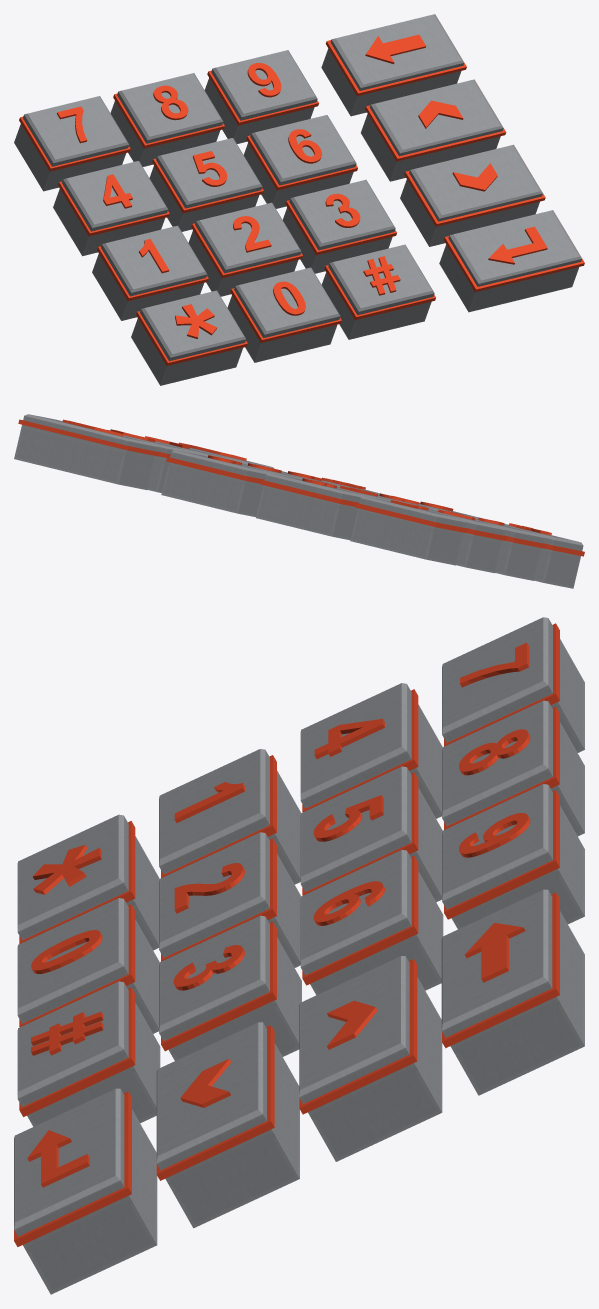
File: ATM_keys.fbx
3 views of the same model, one above another, from view 1: azimuth 30°, elevation 25°; view 2: azimuth 150°, elevation 25°; view 3: azimuth 270°, elevation 25° (orthographic). The views are drawn at different scales.
Parts seen in each view (by area): view 1: atm_keypad_frame, atm_keypad_key2, atm_keypad_key2.002, atm_keypad_key2.001, atm_keypad_key2.003, atm_keypad_key1.004, atm_keypad_key1.005, atm_keypad_key1.012, atm_keypad_key1.002, atm_keypad_key1.001, atm_keypad_key1.003, atm_keypad_key1.008 (+5 smaller); view 2: atm_keypad_key2.001, atm_keypad_key1.001, atm_keypad_key1.008, atm_keypad_key1.009, atm_keypad_frame, atm_keypad_key1.004, atm_keypad_key1.002, atm_keypad_key1.003, atm_keypad_key2.002, atm_keypad_key2, atm_keypad_key2.003; view 3: atm_keypad_frame, atm_keypad_key2.001, atm_keypad_key2.003, atm_keypad_key2, atm_keypad_key2.002, atm_keypad_key1.012, atm_keypad_key1.010, atm_keypad_key1.011, atm_keypad_key1.009, atm_keypad_key1.002, atm_keypad_key1.004, atm_keypad_key1.001 (+5 smaller).
Part boxes in pixels (x1=…): atm_keypad_frame: x1=19, y1=40, x2=584, y2=365; atm_keypad_key2: x1=439, y1=210, x2=582, y2=312; atm_keypad_key2.002: x1=361, y1=79, x2=503, y2=181; atm_keypad_key2.001: x1=321, y1=14, x2=464, y2=116; atm_keypad_key2.003: x1=400, y1=144, x2=542, y2=246; atm_keypad_key1.004: x1=131, y1=290, x2=246, y2=385; atm_keypad_key1.005: x1=227, y1=267, x2=340, y2=362; atm_keypad_key1.012: x1=321, y1=244, x2=434, y2=339; atm_keypad_key1.002: x1=53, y1=161, x2=168, y2=256; atm_keypad_key1.001: x1=14, y1=96, x2=129, y2=191; atm_keypad_key1.003: x1=92, y1=225, x2=207, y2=320; atm_keypad_key1.008: x1=110, y1=73, x2=223, y2=166; atm_keypad_key2.001: x1=14, y1=414, x2=157, y2=489; atm_keypad_key1.001: x1=350, y1=496, x2=465, y2=565; atm_keypad_key1.008: x1=256, y1=473, x2=369, y2=540; atm_keypad_key1.009: x1=161, y1=450, x2=274, y2=517; atm_keypad_frame: x1=18, y1=419, x2=584, y2=556; atm_keypad_key1.004: x1=504, y1=523, x2=583, y2=588; atm_keypad_key1.002: x1=428, y1=509, x2=505, y2=573; atm_keypad_key1.003: x1=475, y1=517, x2=544, y2=580; atm_keypad_key2.002: x1=110, y1=429, x2=195, y2=492; atm_keypad_key2: x1=178, y1=442, x2=273, y2=468; atm_keypad_key2.003: x1=108, y1=430, x2=234, y2=460; atm_keypad_frame: x1=14, y1=623, x2=559, y2=1246; atm_keypad_key2.001: x1=441, y1=889, x2=584, y2=1095; atm_keypad_key2.003: x1=156, y1=1022, x2=299, y2=1228; atm_keypad_key2: x1=14, y1=1088, x2=157, y2=1294; atm_keypad_key2.002: x1=299, y1=956, x2=442, y2=1161; atm_keypad_key1.012: x1=17, y1=981, x2=160, y2=1126; atm_keypad_key1.010: x1=300, y1=850, x2=443, y2=995; atm_keypad_key1.011: x1=159, y1=915, x2=301, y2=1060; atm_keypad_key1.009: x1=442, y1=784, x2=584, y2=929; atm_keypad_key1.002: x1=300, y1=683, x2=442, y2=818; atm_keypad_key1.004: x1=17, y1=814, x2=159, y2=950; atm_keypad_key1.001: x1=442, y1=617, x2=584, y2=752.
Bounding box in the file's own units: 48.3 × 19.33 × 31.68.
